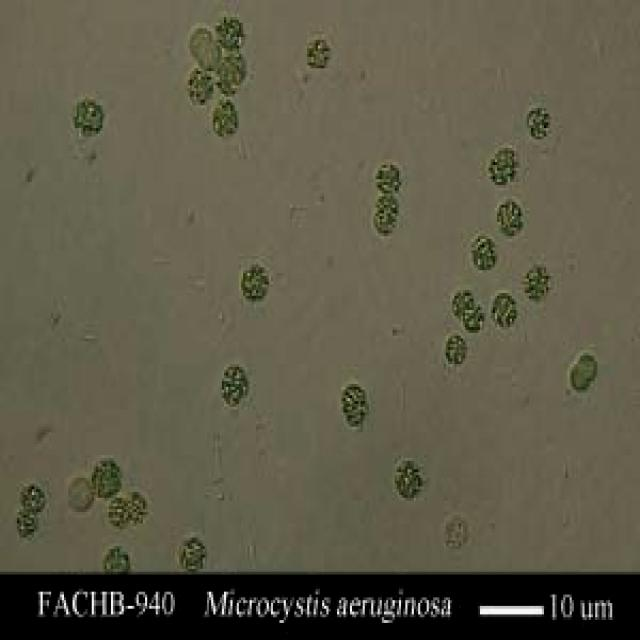Blue Green Algae: (218, 361, 252, 407), (237, 259, 273, 301), (341, 378, 369, 432), (392, 455, 424, 501), (70, 96, 107, 134), (490, 287, 520, 330), (520, 262, 552, 302), (186, 63, 216, 105), (88, 458, 121, 495), (213, 14, 246, 51), (175, 534, 207, 572), (495, 196, 523, 239), (211, 97, 239, 139), (303, 34, 331, 74), (472, 230, 499, 270), (525, 102, 552, 140), (374, 157, 404, 190), (126, 489, 149, 529), (373, 202, 399, 236), (19, 481, 47, 512), (495, 142, 518, 179), (13, 506, 38, 540), (444, 333, 469, 367), (450, 287, 474, 319), (576, 350, 597, 384), (109, 492, 128, 529), (461, 299, 482, 330)
